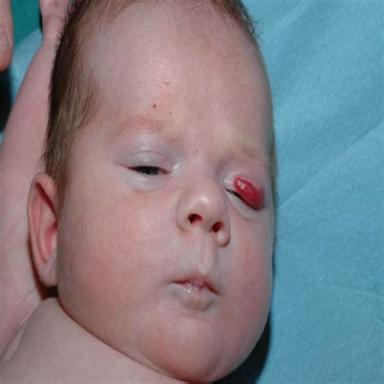Hemangiome: (233, 176, 265, 209)
